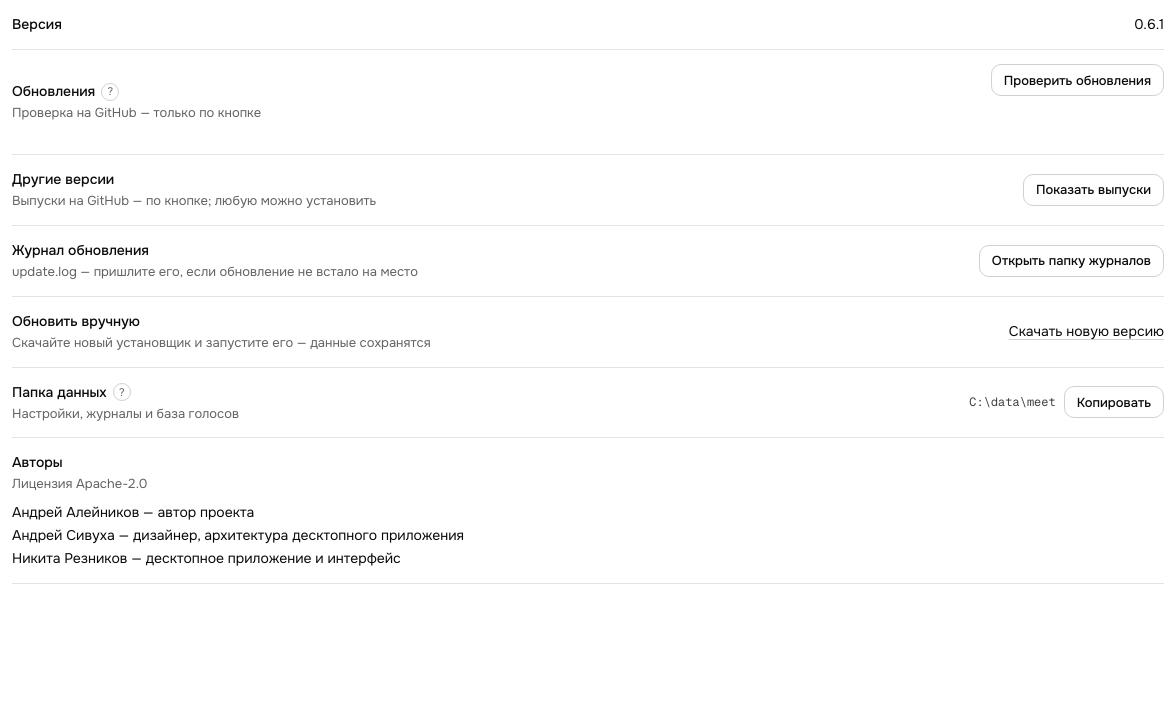
последняя версия
Expected: the text "C:\\data\\meet" is shown, [969,394,1056,410]
Click the button "Проверить обновления".
click(1077, 80)  # box [991,64,1164,96]
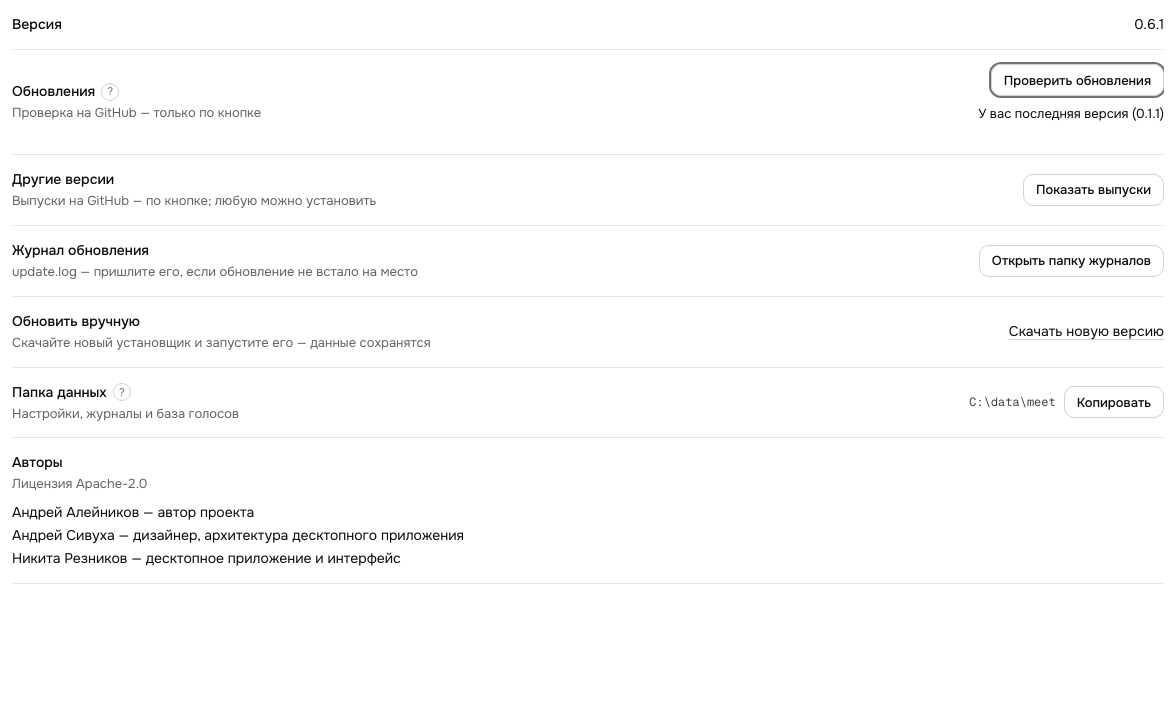
Now the text "У вас последняя версия (0.1.1)" is shown, box [978,104,1164,124]
